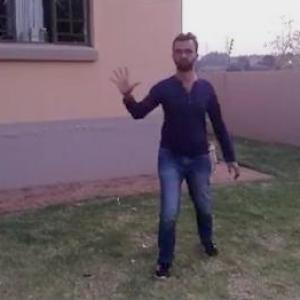follow_hand: (104, 61, 143, 100)
